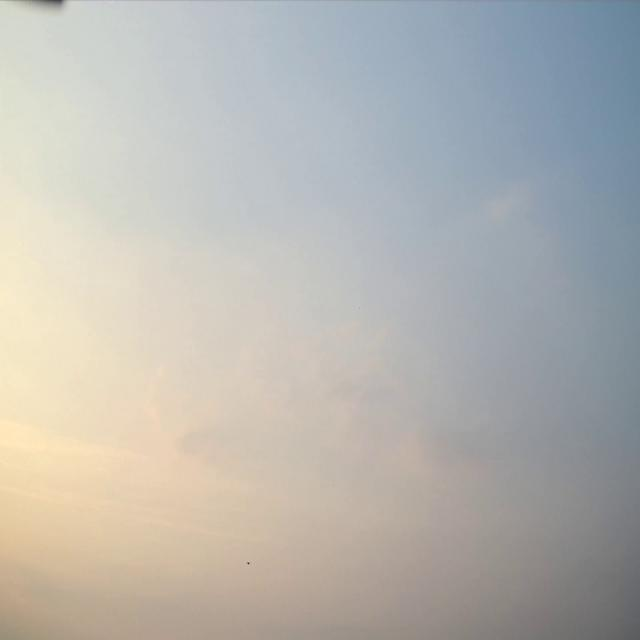UAV: (246, 561, 251, 565)
